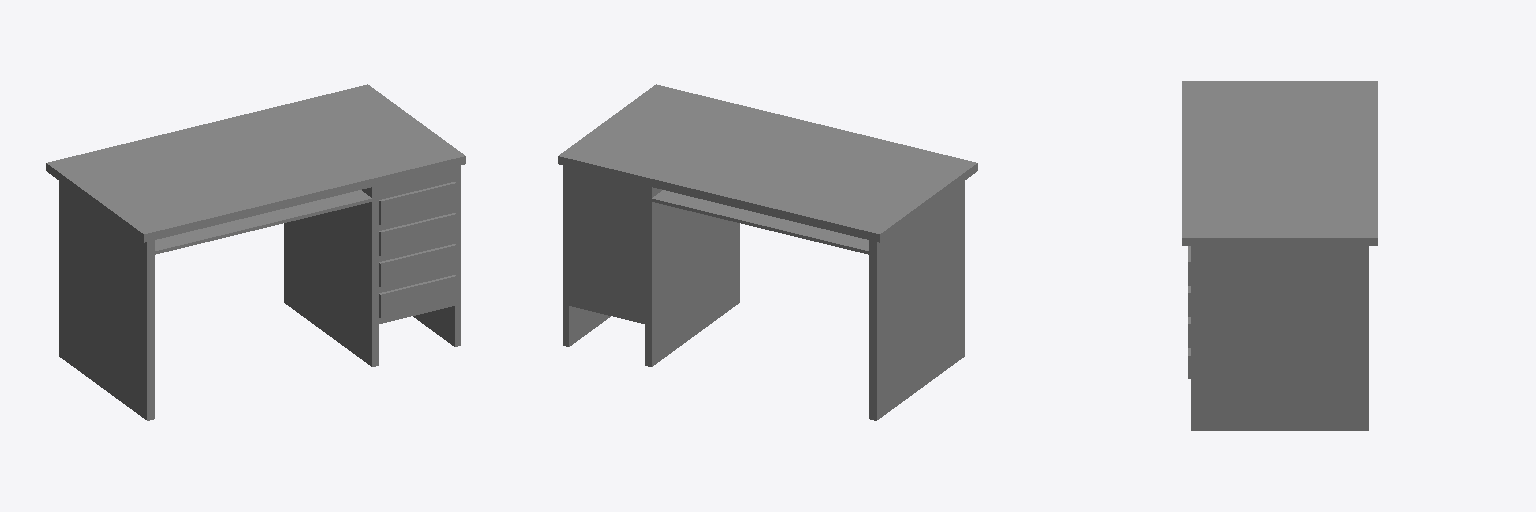
Rendered from Desk2_Remake.obj.
3 views of the same model, side by side, from view 1: azimuth 30°, elevation 25°; view 2: azimuth 150°, elevation 25°; view 3: azimuth 270°, elevation 25° (orthographic).
Parts seen in each view (by area): view 1: Desk2_Remake; view 2: Desk2_Remake; view 3: Desk2_Remake.
Part boxes in pixels (x1,y1,x2,y2): Desk2_Remake: (46,84,465,420); Desk2_Remake: (558,84,977,420); Desk2_Remake: (1182,81,1377,430).
Size of the model in its own units: 2.03 by 1.17 by 1.07.